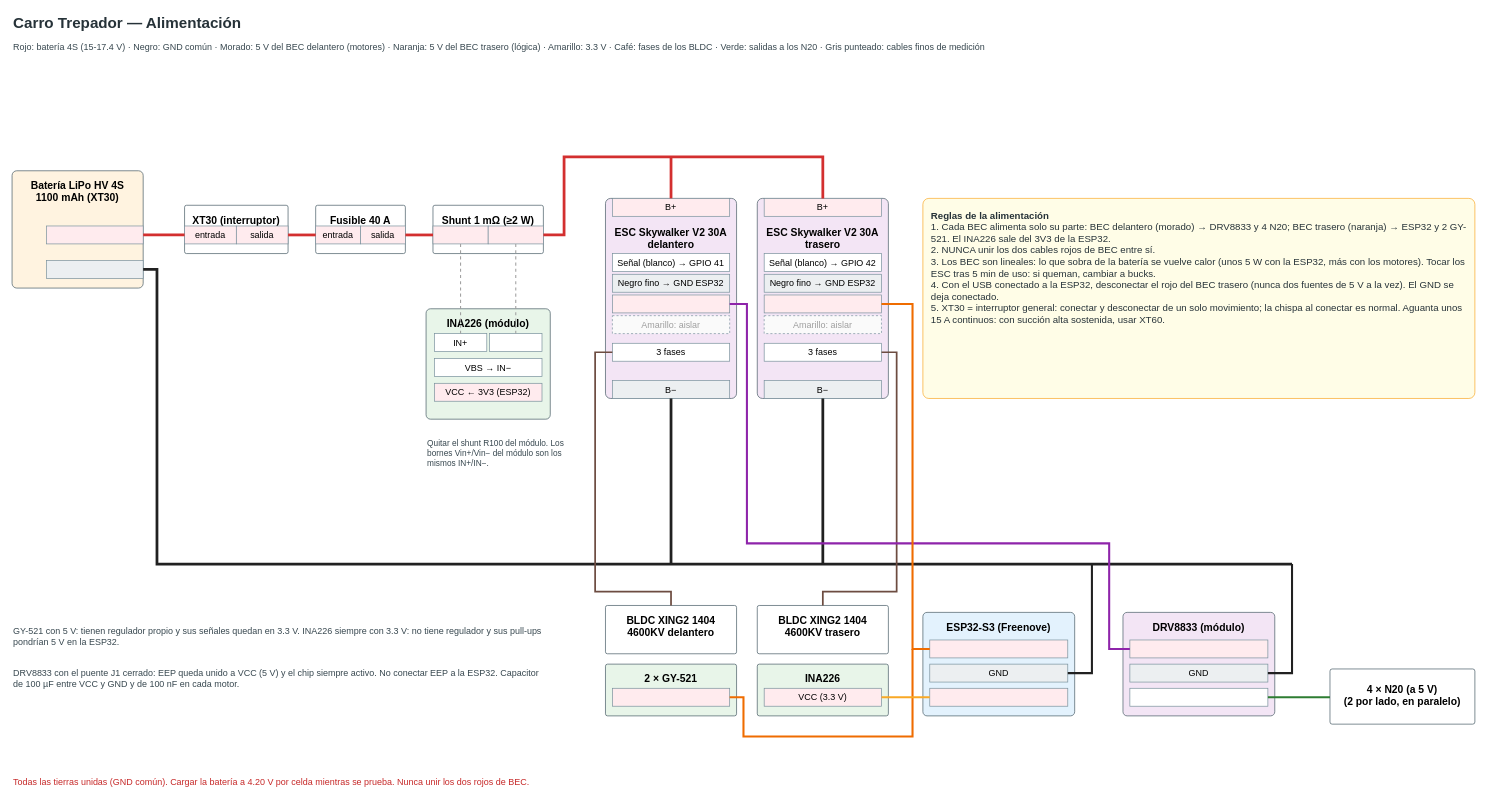
Some shapes in this 1487 by 803 pixel diagram are drawn without their labels. Each missing label, with the centre of its shape:
+ (rojo): (x=94, y=234)
3V3 (salida): (x=998, y=697)
5V (también a GY-521): (x=998, y=648)
BEC 5 V (rojo) → DRV8833: (x=671, y=303)
BEC 5 V (rojo) → ESP32: (x=822, y=303)
IN−: (x=515, y=342)
lado batería: (x=460, y=234)
lado carga: (x=515, y=234)
OUT1 a OUT4: (x=1198, y=697)
VCC (5 V): (x=671, y=697)
VCC ← 5 V (BEC delantero): (x=1198, y=648)
− (negro): (x=94, y=269)
